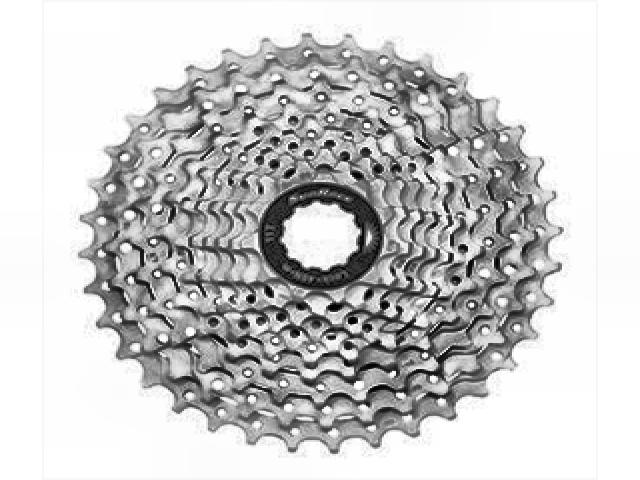cassette: (75, 30, 565, 457)
